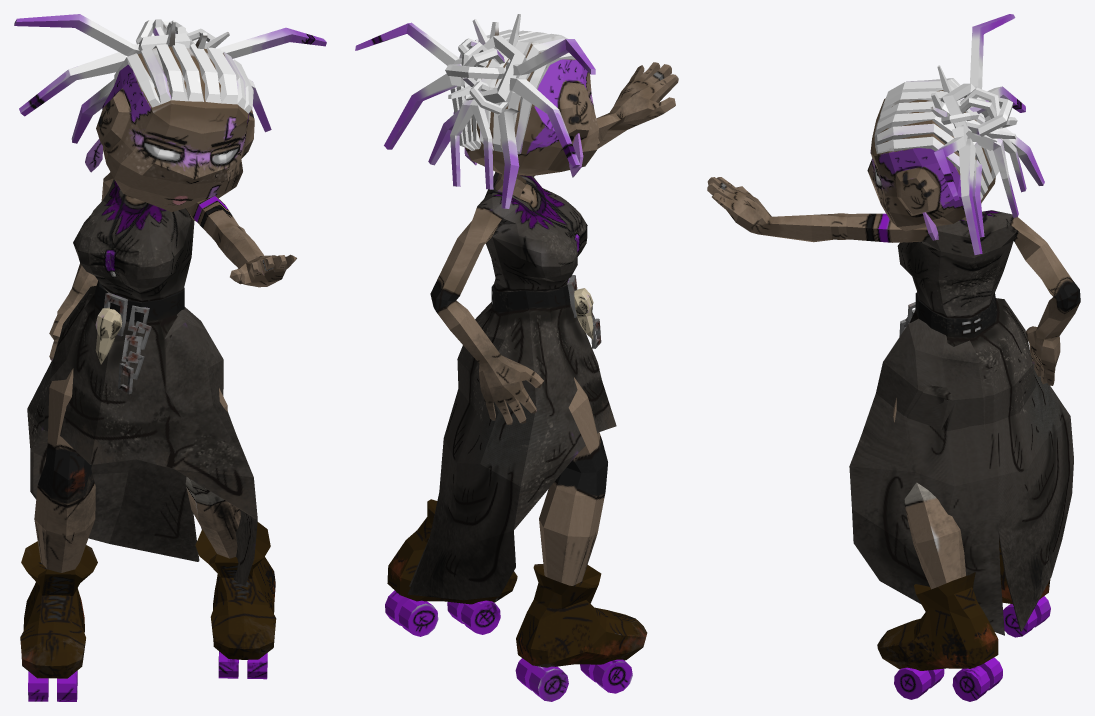
File: bruja_000030.obj
3 renders of one model, left to right at view 1: azimuth 30°, elevation 25°; view 2: azimuth 150°, elevation 25°; view 3: azimuth 270°, elevation 25°, orthographic. The views are drawn at different scales.
Parts seen in each view (by area): view 1: Bruja_Plane.001; view 2: Bruja_Plane.001; view 3: Bruja_Plane.001.
Boxes of the visible parts, box(x1,y1,x2,y2) form: Bruja_Plane.001: box(14, 14, 326, 701); Bruja_Plane.001: box(355, 14, 678, 701); Bruja_Plane.001: box(707, 14, 1080, 701).
Size of the model in its own units: 7.74 by 16.41 by 9.13.
